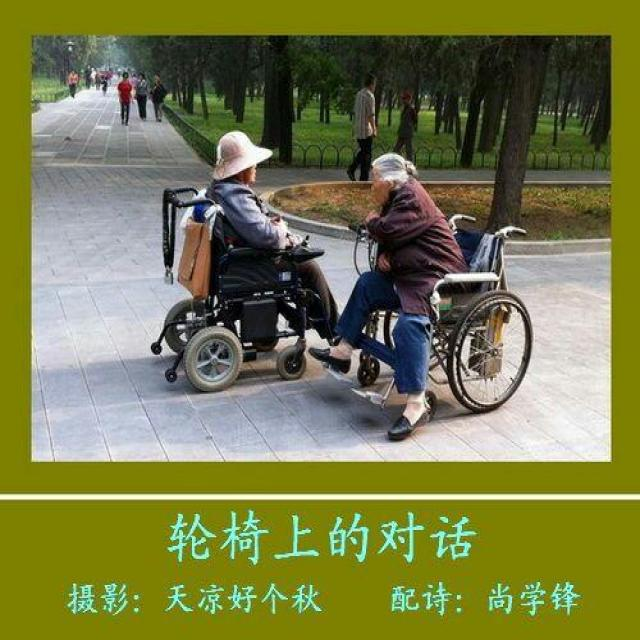wheelchairs: (140, 180, 343, 390)
